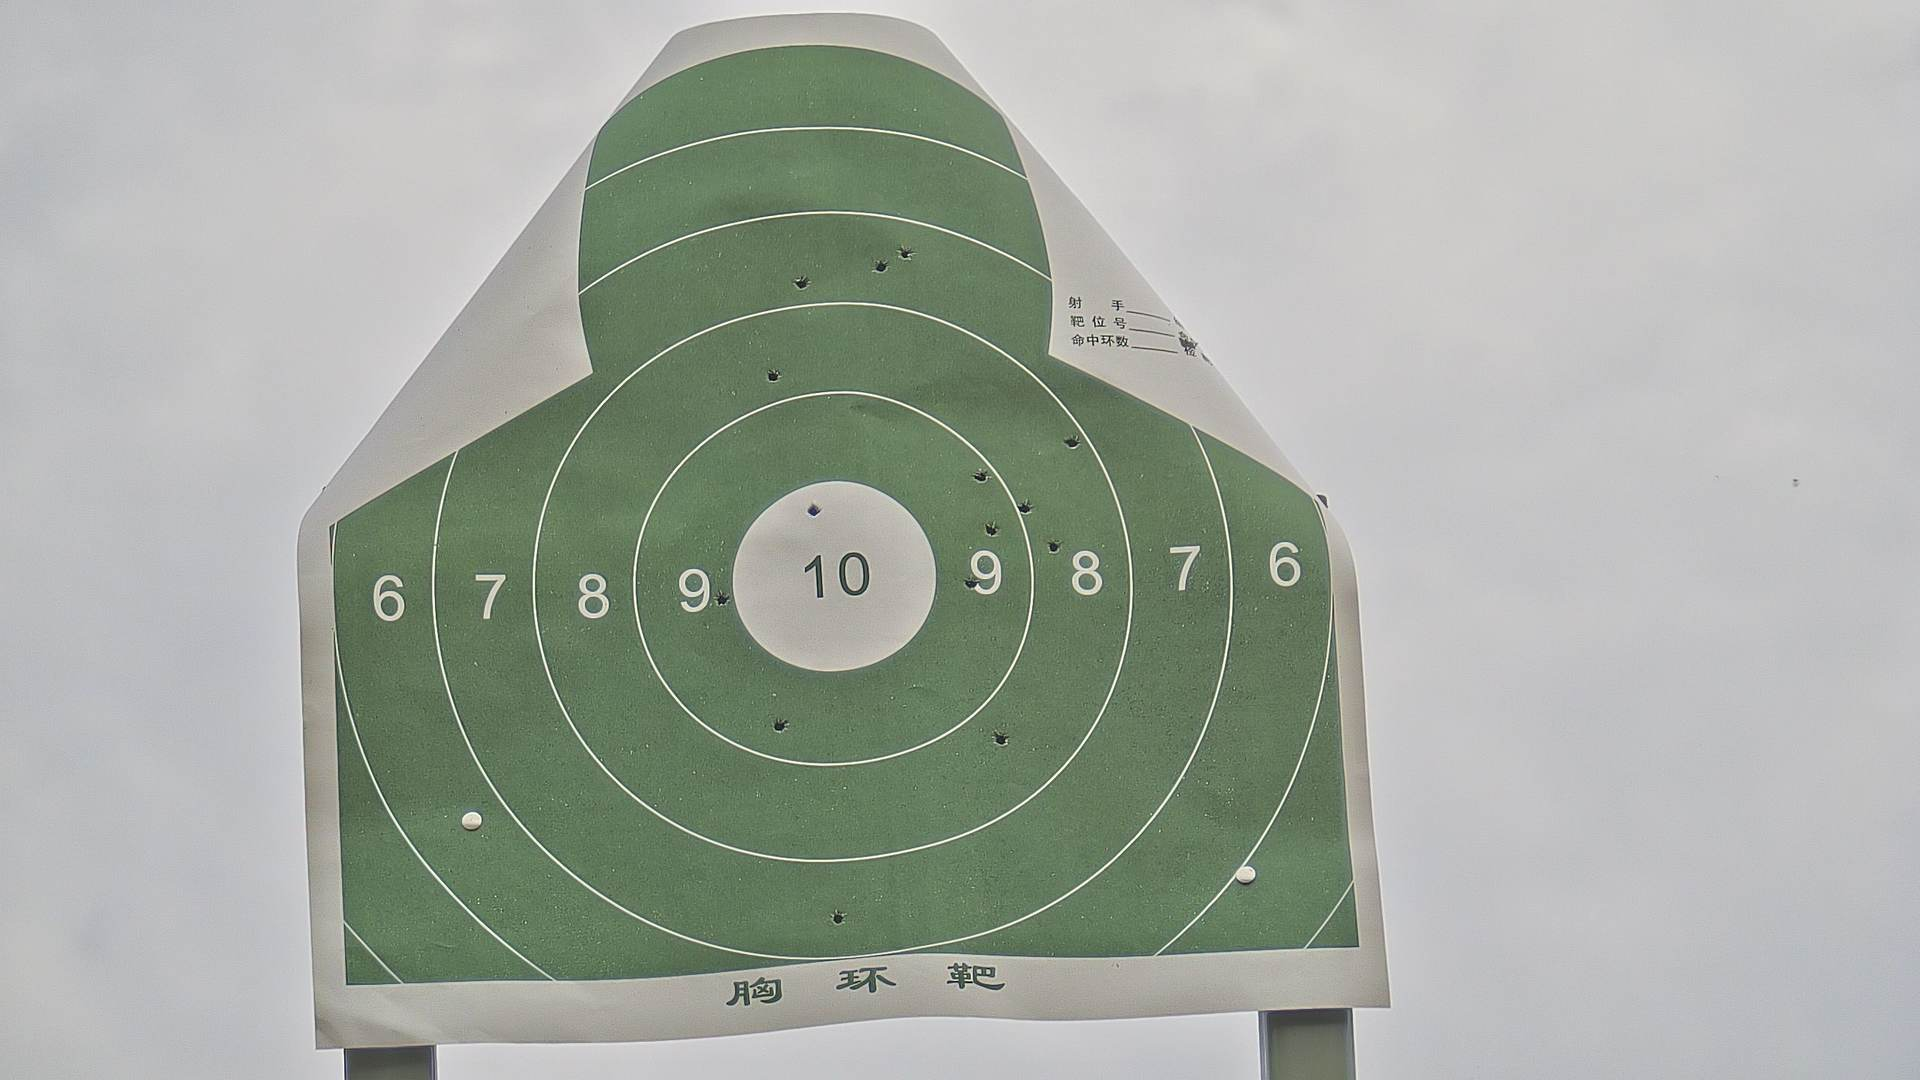hole: (981, 520, 1004, 541), (989, 728, 1011, 749), (895, 244, 919, 264), (969, 465, 993, 485), (870, 256, 891, 277), (1010, 497, 1033, 517), (762, 367, 786, 385), (793, 274, 814, 293), (712, 589, 731, 609), (828, 909, 847, 928), (1062, 434, 1083, 451), (1044, 537, 1063, 555), (771, 717, 791, 735), (804, 502, 823, 520), (963, 575, 981, 589)
kernel: (828, 574, 833, 579)
target: (330, 46, 1361, 990)
ten: (732, 477, 942, 673)
